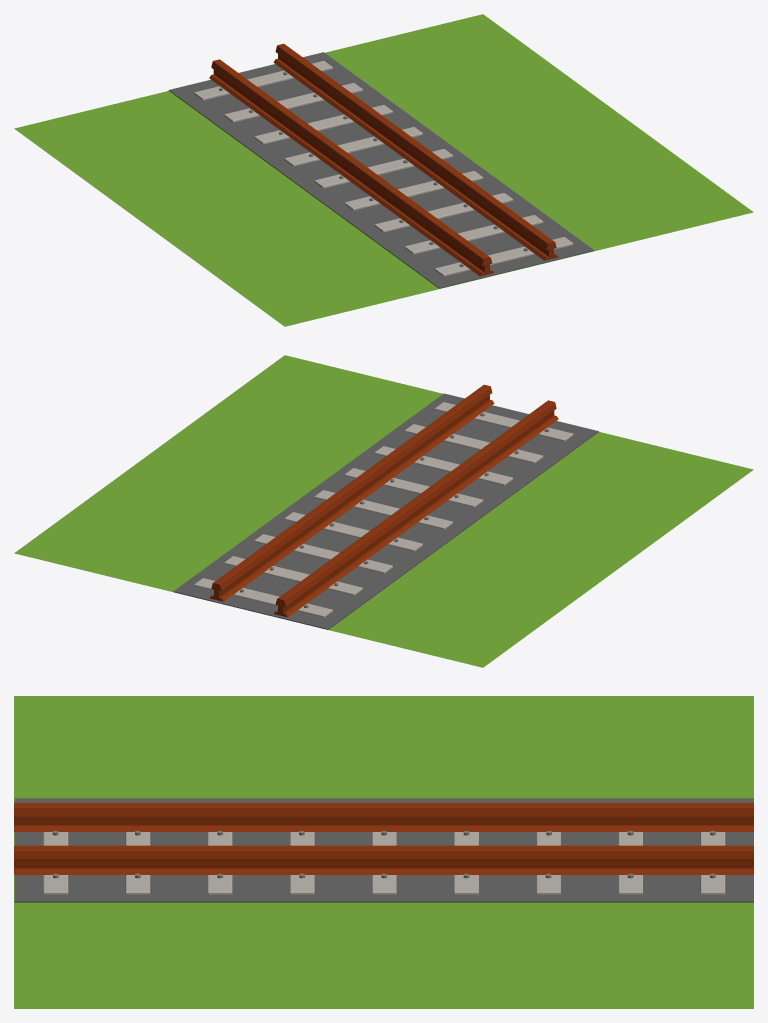
Rendered from straight_rail.gltf.
3 renders of one model, top to bottom at view 1: azimuth 30°, elevation 25°; view 2: azimuth 150°, elevation 25°; view 3: azimuth 270°, elevation 25°, orthographic. The views are drawn at different scales.
Visible parts, largest first — view 1: straight Rail; view 2: straight Rail; view 3: straight Rail.
Part boxes in pixels (bbox=[...]): straight Rail: bbox=[14, 14, 753, 326]; straight Rail: bbox=[14, 355, 753, 667]; straight Rail: bbox=[14, 696, 753, 1008].
Bounding box in the file's own units: 20 × 0.7776 × 20.
